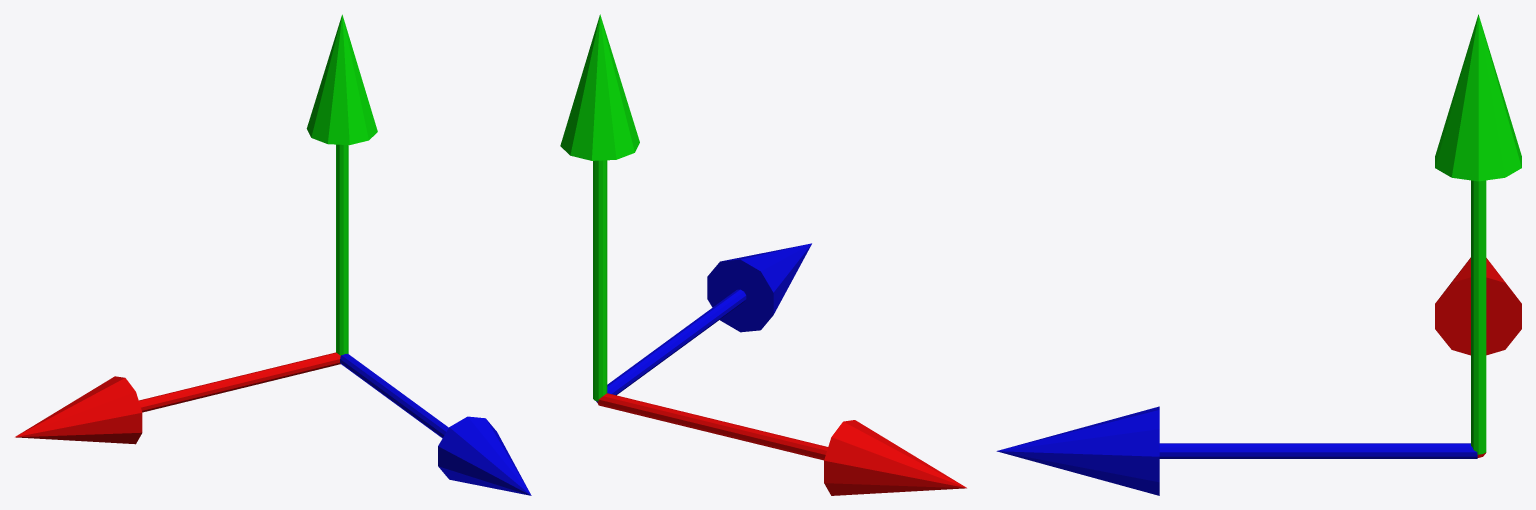
Rendered from Gizmo.fbx.
3 renders of one model, left to right at view 1: azimuth 30°, elevation 25°; view 2: azimuth 150°, elevation 25°; view 3: azimuth 270°, elevation 25°, orthographic. The views are drawn at different scales.
Parts seen in each view (by area): view 1: polySurface4; view 2: polySurface4; view 3: polySurface4.
Boxes of the visible parts, box(x1,y1,x2,y2) form: polySurface4: box(15, 14, 531, 495); polySurface4: box(560, 14, 966, 495); polySurface4: box(996, 14, 1521, 495).
Bounding box in the file's own units: 1.1 × 1.1 × 1.09.
